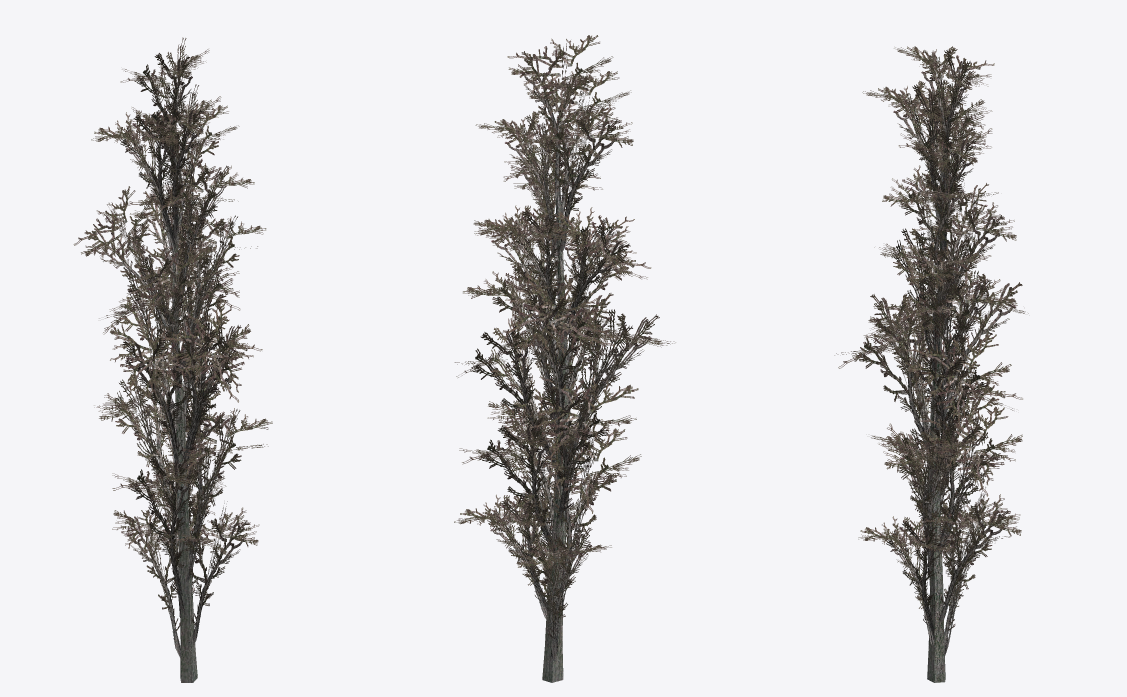
The model's file is poplar_lombardy_dead.glb.
3 renders of one model, left to right at view 1: azimuth 30°, elevation 25°; view 2: azimuth 150°, elevation 25°; view 3: azimuth 270°, elevation 25°, orthographic.
Bounding box in the file's own units: 8.67 × 18.47 × 9.
Materials: 1 (1 with a texture image).
